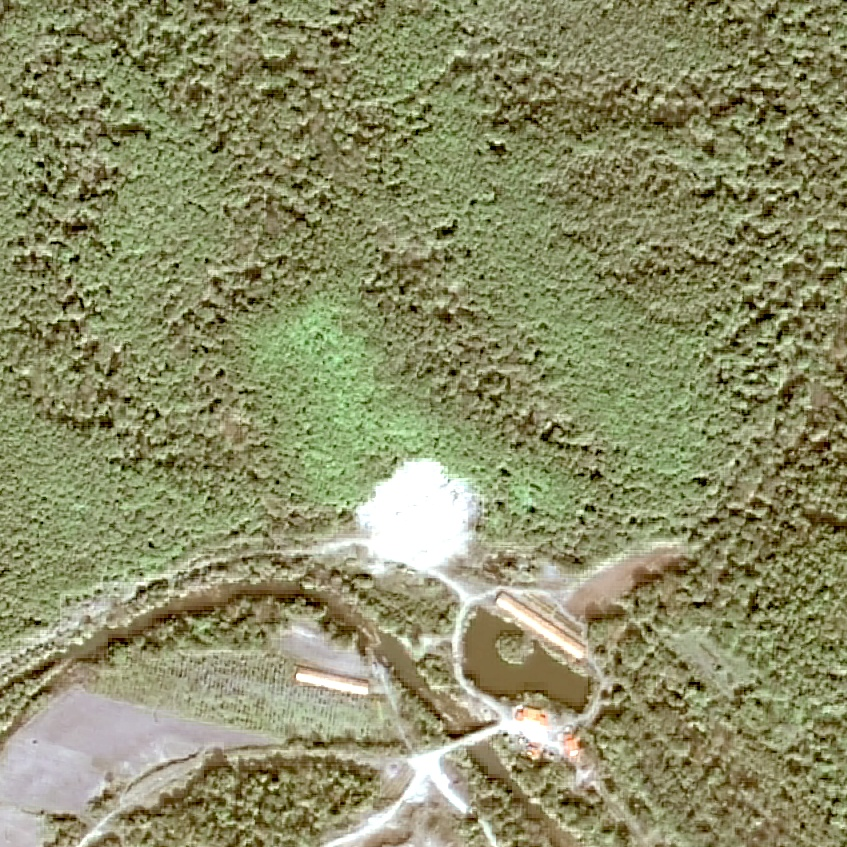slope: (352, 457, 482, 580)
